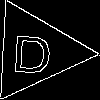D: (10, 26, 54, 74)
